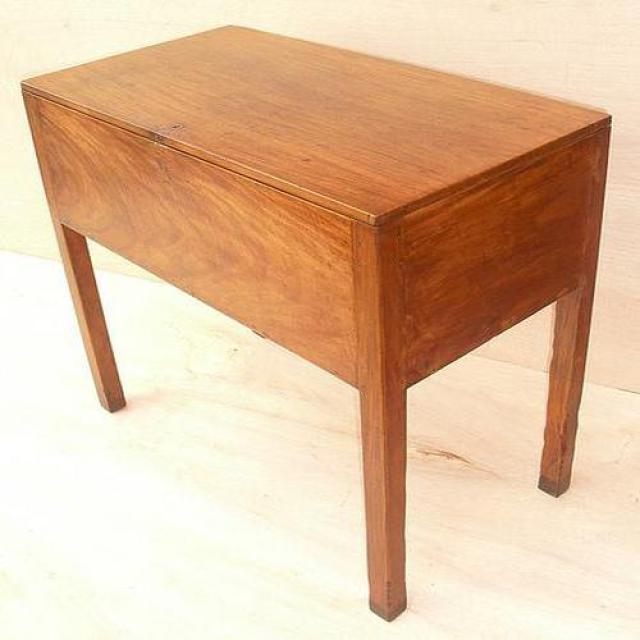table: (22, 26, 613, 625)
